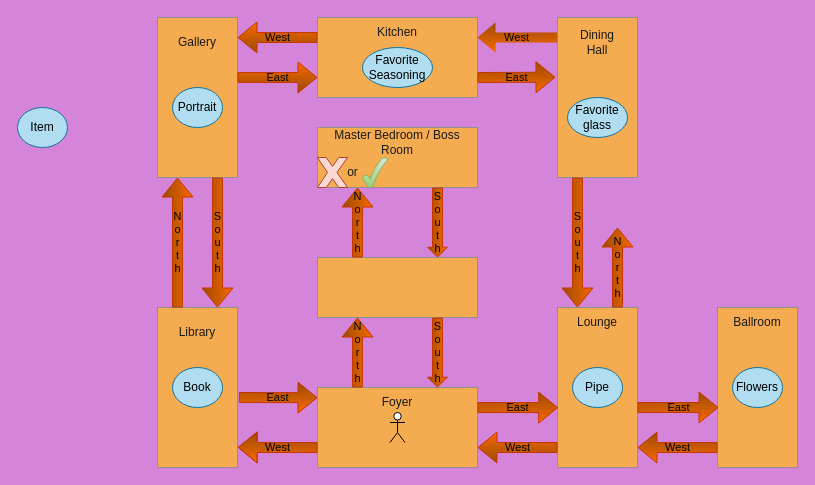
This 815x485 diagram has some shape labels left out. Here are the shapes that lost their labels. From the top down, the box of each, then its label:
(316, 256, 478, 318): Grand Staircase
(389, 412, 405, 442): Start
